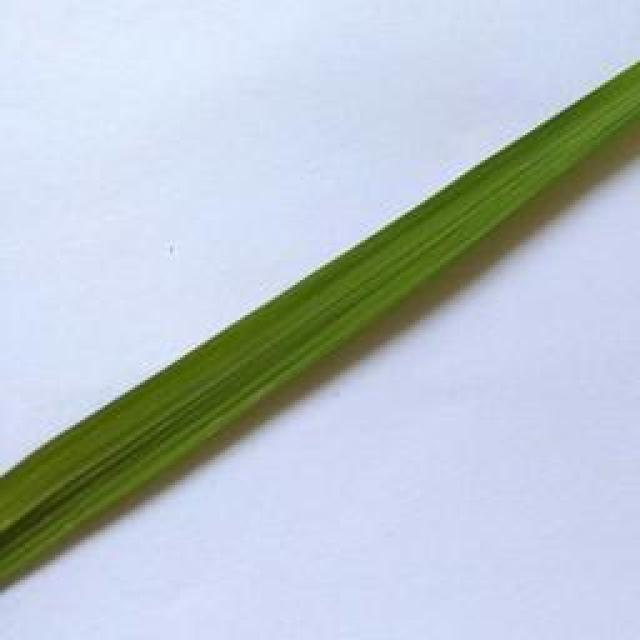Healthy-Plant: (0, 64, 640, 579)
